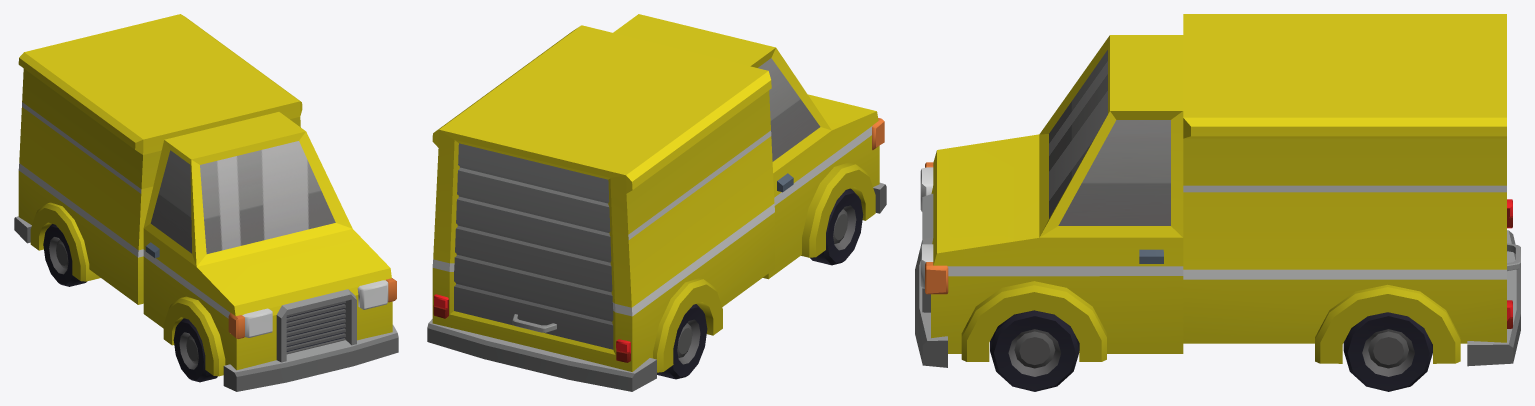
Rendered from PostCar_13.fbx.
The picture shows the model from 3 angles, left to right: view 1: azimuth 30°, elevation 25°; view 2: azimuth 150°, elevation 25°; view 3: azimuth 270°, elevation 25°; orthographic projection. The views are drawn at different scales.
Visible parts, largest first — view 1: PostCar_13, Wheel_FR, Wheel_BR; view 2: PostCar_13, Wheel_FR, Wheel_BR; view 3: PostCar_13, Wheel_FL, Wheel_BL.
Boxes of the visible parts, left/top/right/bottom form: PostCar_13: left=14, top=14, right=398, bottom=391; Wheel_FR: left=173, top=318, right=217, bottom=382; Wheel_BR: left=43, top=224, right=86, bottom=286; PostCar_13: left=427, top=14, right=886, bottom=391; Wheel_FR: left=810, top=188, right=863, bottom=265; Wheel_BR: left=657, top=304, right=707, bottom=379; PostCar_13: left=915, top=14, right=1520, bottom=367; Wheel_FL: left=990, top=310, right=1079, bottom=391; Wheel_BL: left=1343, top=312, right=1432, bottom=391.
Size of the model in its own units: 1.18 by 1.24 by 2.51.
